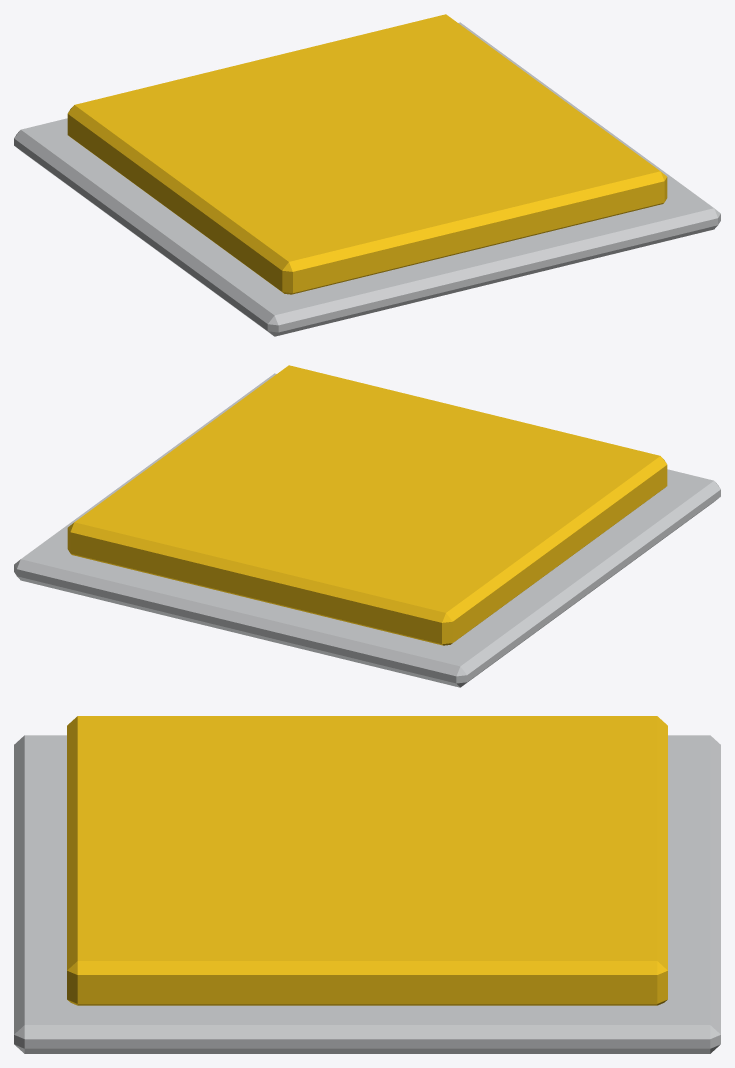
Rendered from pressure_plate.glb.
3 views of the same model, one above another, from view 1: azimuth 30°, elevation 25°; view 2: azimuth 150°, elevation 25°; view 3: azimuth 270°, elevation 25° (orthographic). The views are drawn at different scales.
Parts seen in each view (by area): view 1: pressure_plate; view 2: pressure_plate; view 3: pressure_plate.
Boxes of the visible parts, bbox=[...] form: pressure_plate: bbox=[14, 14, 720, 336]; pressure_plate: bbox=[14, 365, 720, 687]; pressure_plate: bbox=[14, 716, 720, 1053].
Bounding box in the file's own units: 0.4 × 0.044 × 0.4.
